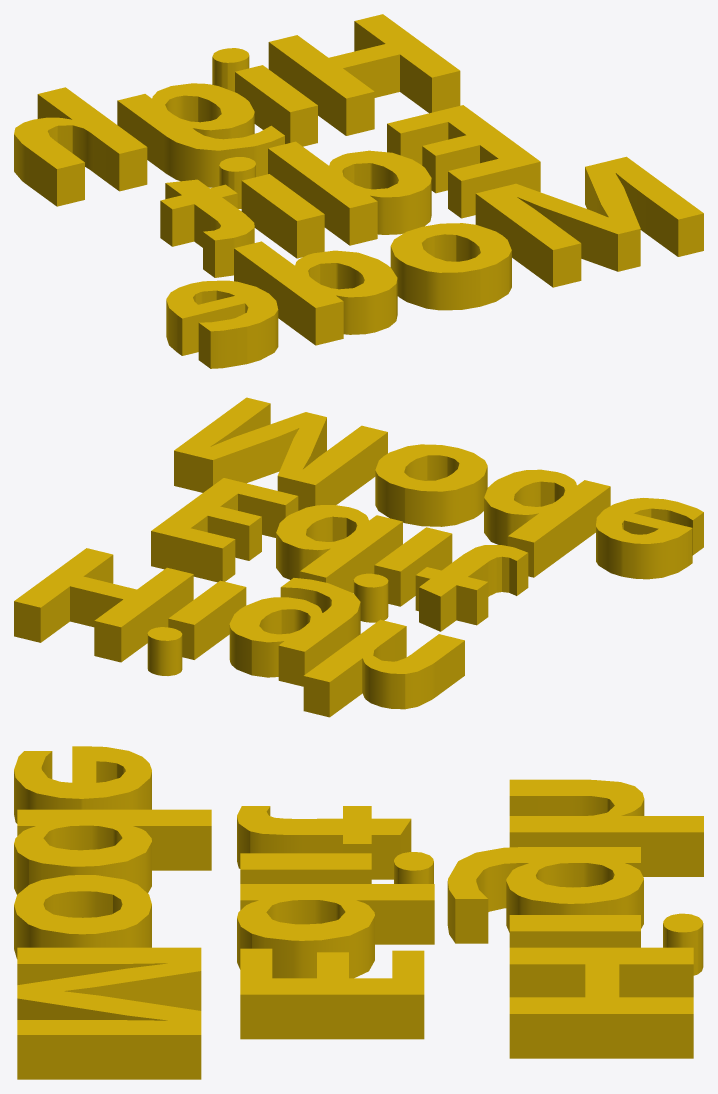
Rendered from HighEditMode.fbx.
The picture shows the model from 3 angles, top to bottom: view 1: azimuth 30°, elevation 25°; view 2: azimuth 150°, elevation 25°; view 3: azimuth 270°, elevation 25°; orthographic projection. The views are drawn at different scales.
Visible parts, largest first — view 1: Char_H_1_curve56; view 2: Char_H_1_curve56; view 3: Char_H_1_curve56.
Part boxes in pixels (<box>): Char_H_1_curve56: <box>14,14,703,368</box>; Char_H_1_curve56: <box>14,397,703,717</box>; Char_H_1_curve56: <box>14,746,703,1079</box>.
Size of the model in its own units: 77.84 by 5.67 by 78.43.
